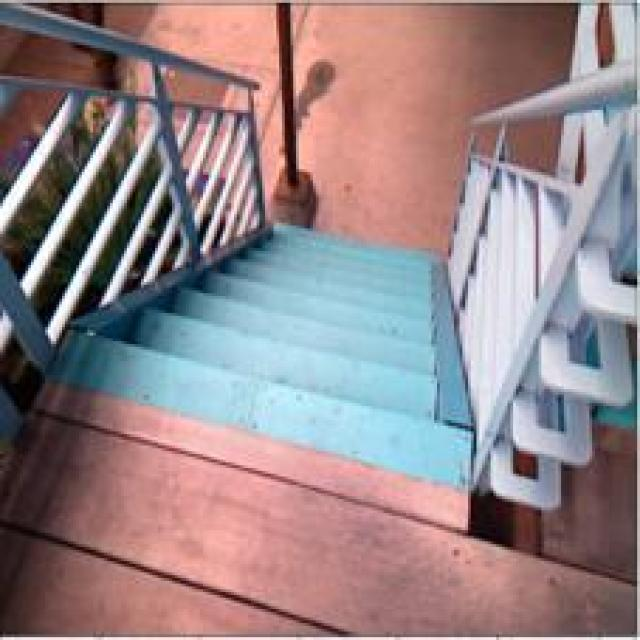downstair: (63, 272, 463, 537)
